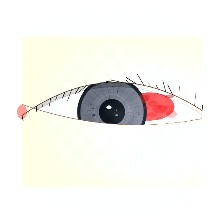hemorrhage_spot: (115, 79, 184, 134)
